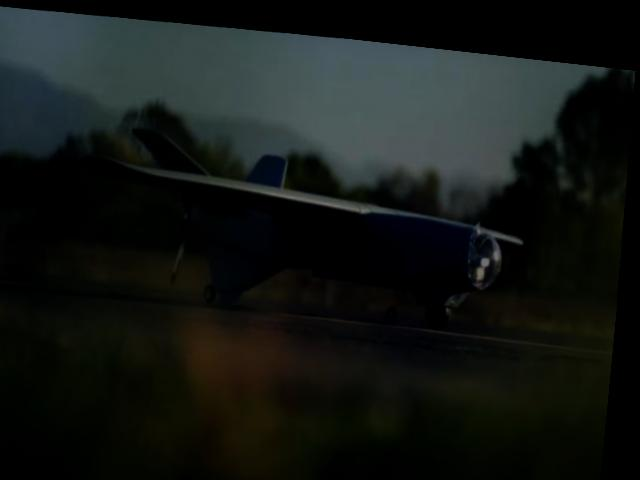iha: (66, 102, 541, 326)
